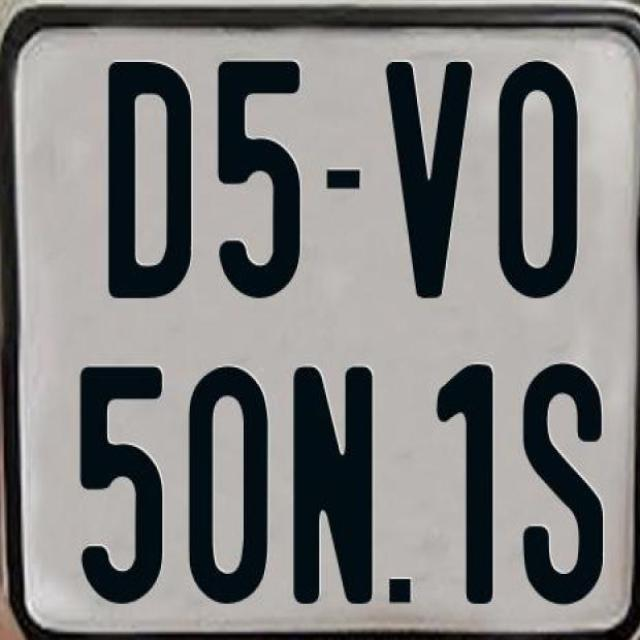license-plate: (5, 15, 639, 627)
